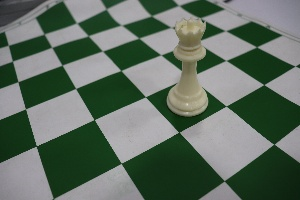white_queen: (165, 11, 216, 126)
